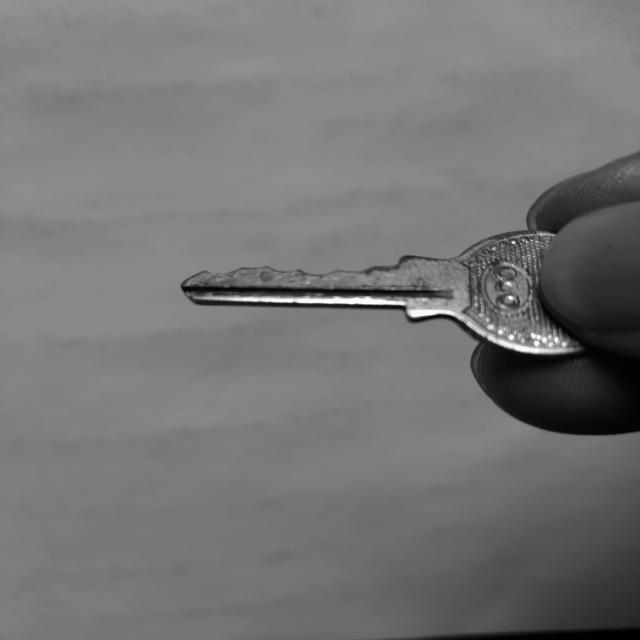KEY: (182, 230, 587, 356)
